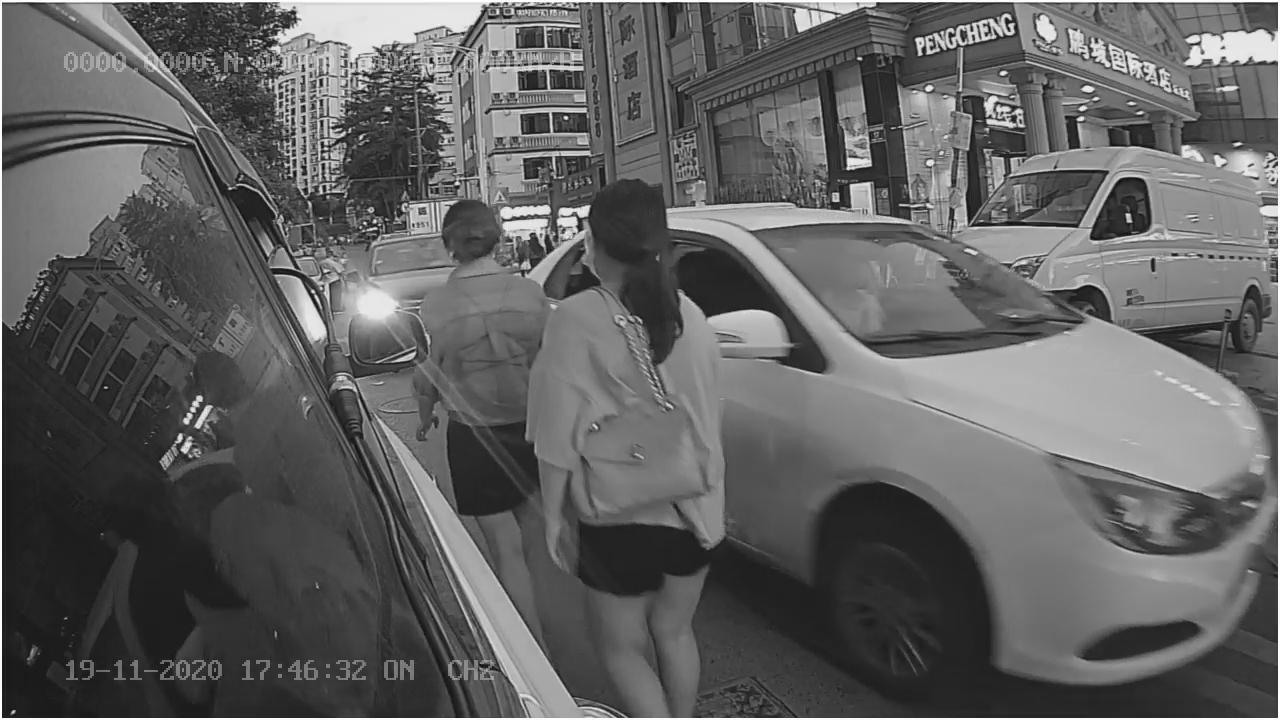person: (552, 182, 723, 655)
